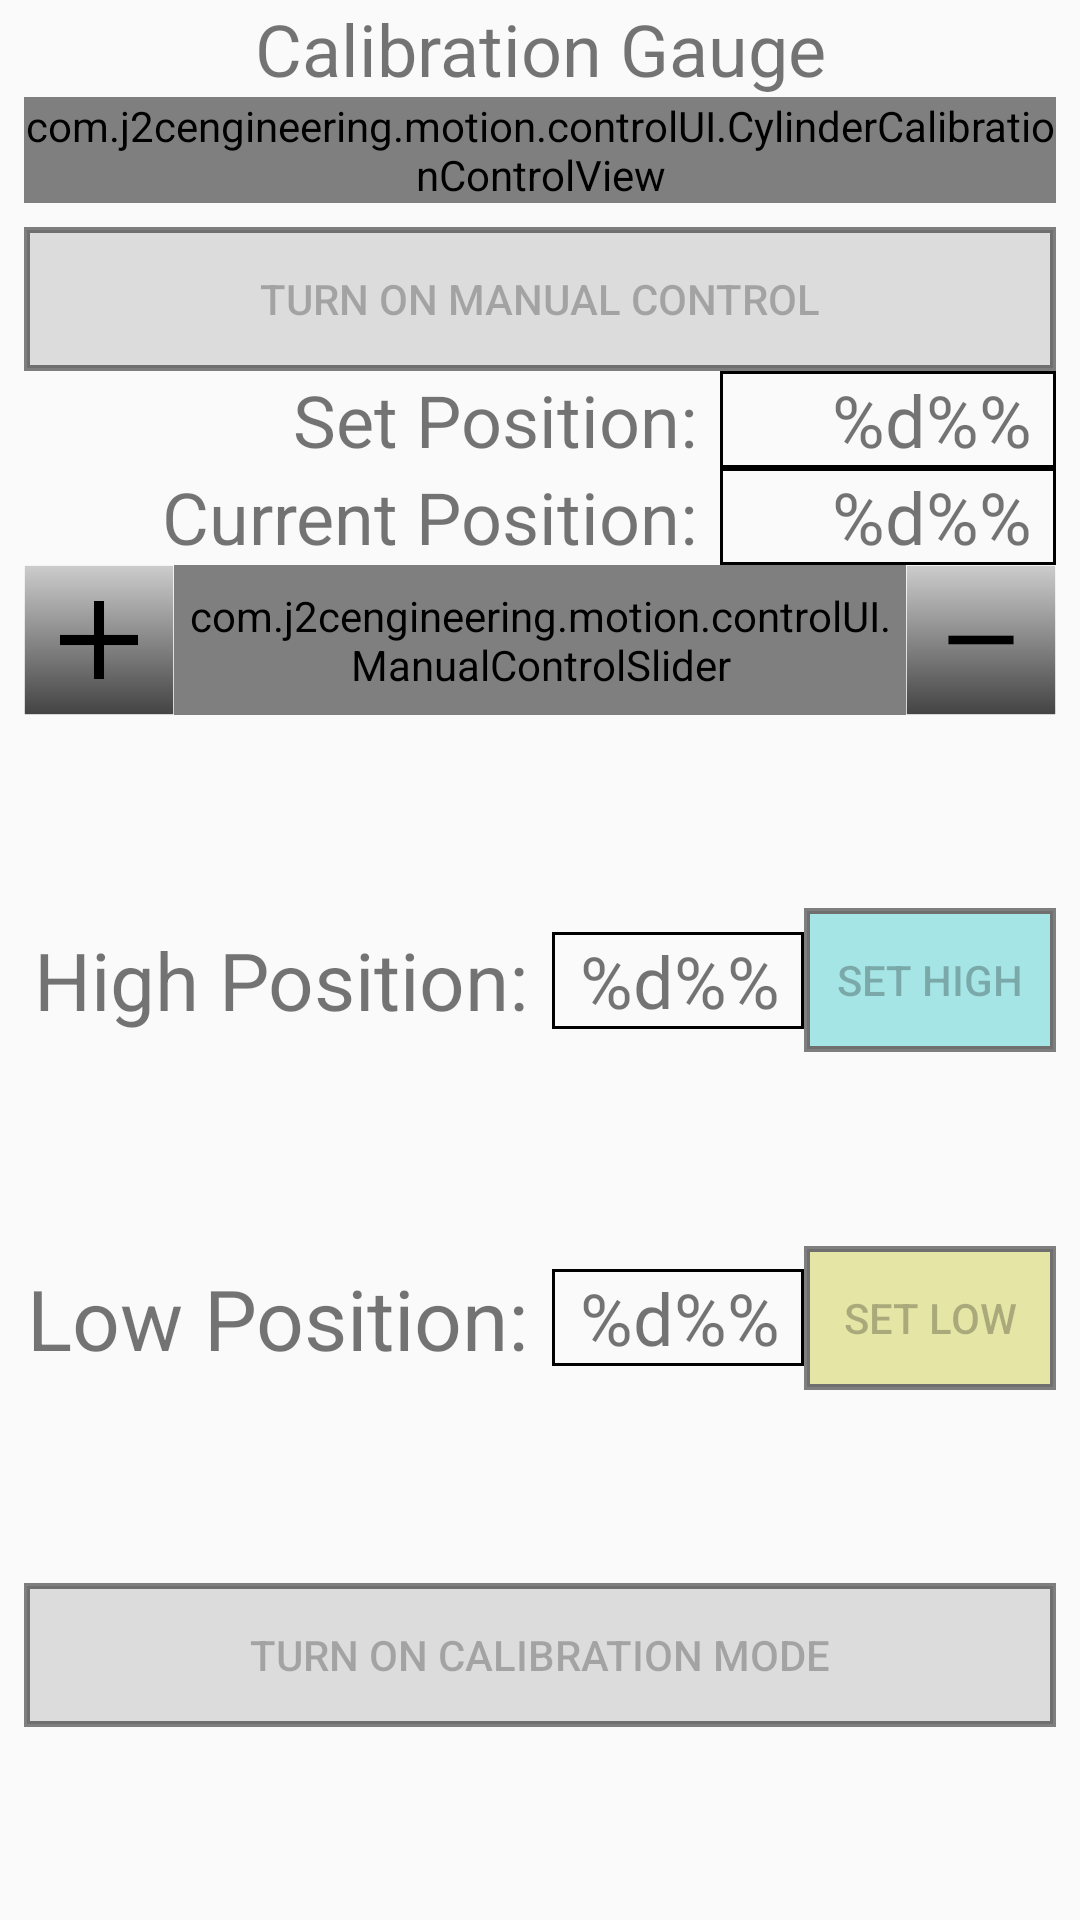

Point at icon controls on the screen. Image size 1080px×1920px, points as [x,y].
minusbutton: [981,640]
plusbutton: [99,640]
